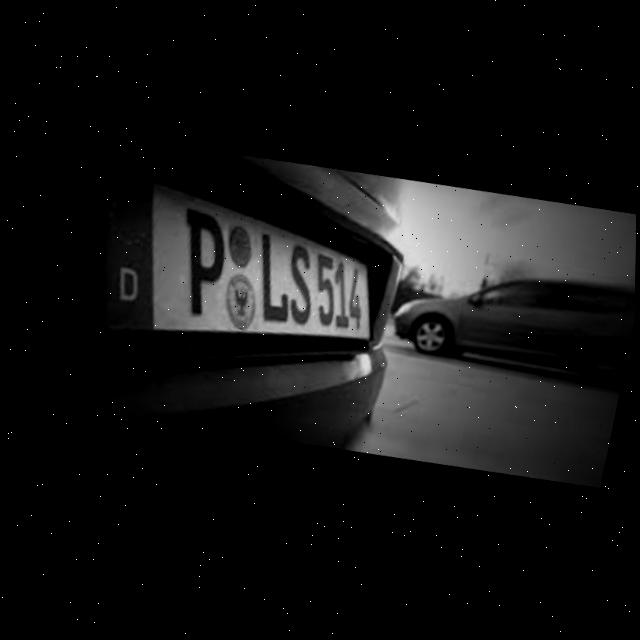license-plates: (100, 174, 154, 331)
